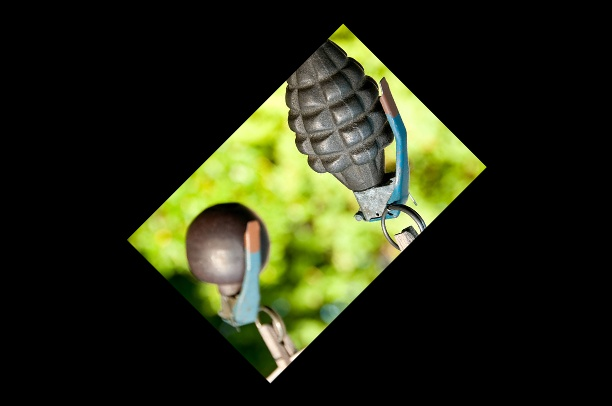e1: (283, 40, 427, 239), (185, 198, 285, 340)
